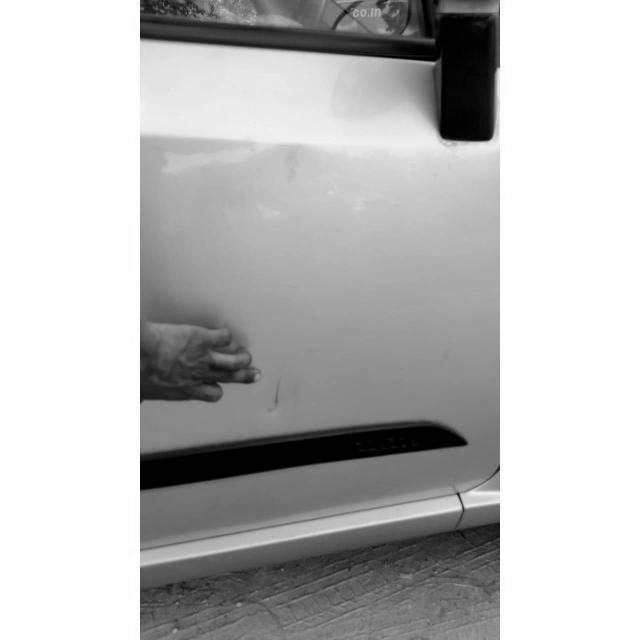doorouter-dent: (141, 36, 500, 505)
